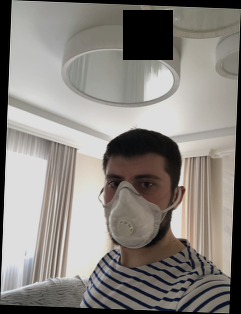with_mask: (103, 167, 165, 250)
